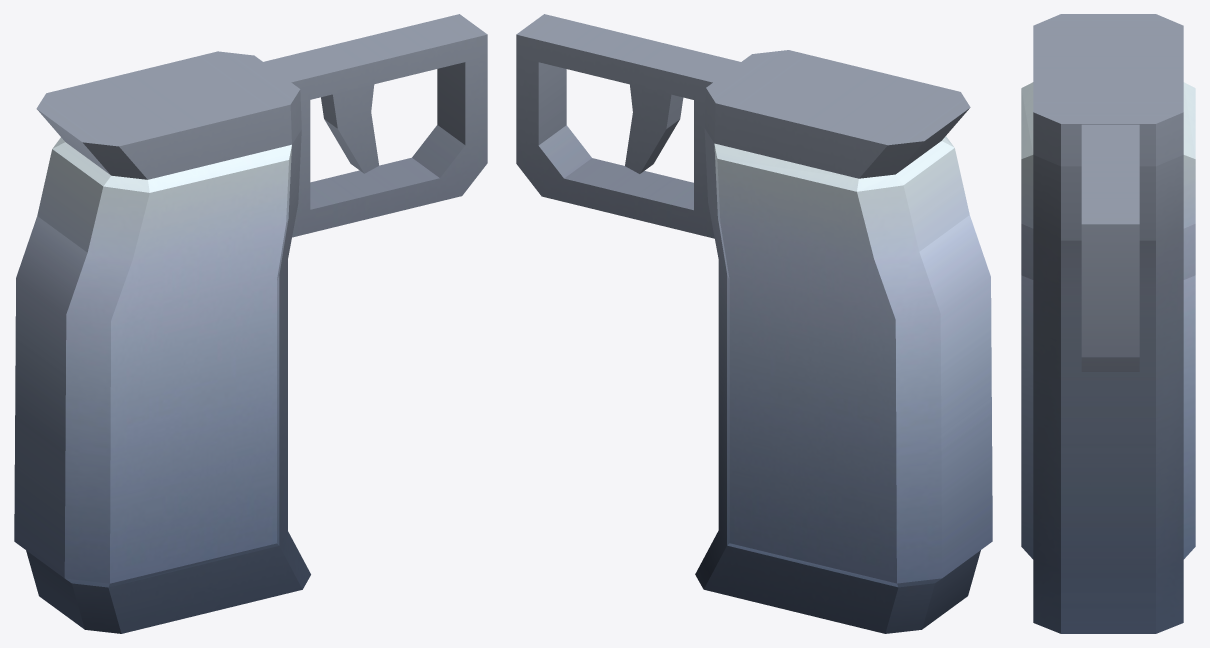
Rendered from Hand1.FBX.
3 views of the same model, side by side, from view 1: azimuth 30°, elevation 25°; view 2: azimuth 150°, elevation 25°; view 3: azimuth 270°, elevation 25° (orthographic). The views are drawn at different scales.
Parts seen in each view (by area): view 1: Box010; view 2: Box010; view 3: Box010.
Boxes of the visible parts, left/top/right/bottom form: Box010: left=14, top=14, right=487, bottom=633; Box010: left=516, top=14, right=992, bottom=633; Box010: left=1021, top=14, right=1195, bottom=633.
Bounding box in the file's own units: 9.48 × 10.16 × 3.19.
